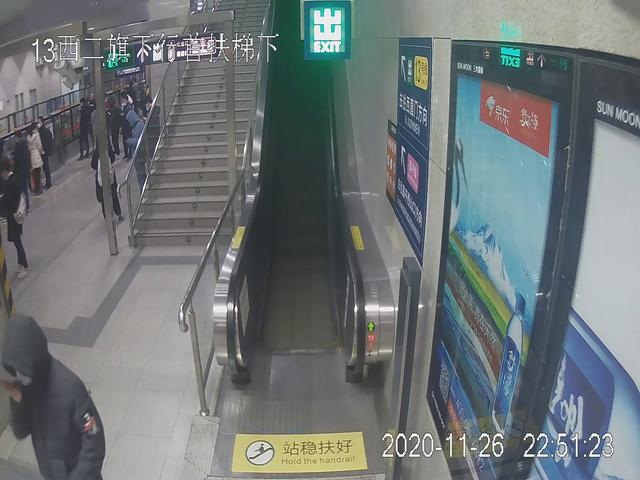person: (5, 301, 112, 480), (127, 108, 155, 205), (24, 122, 43, 201), (37, 112, 50, 187)
